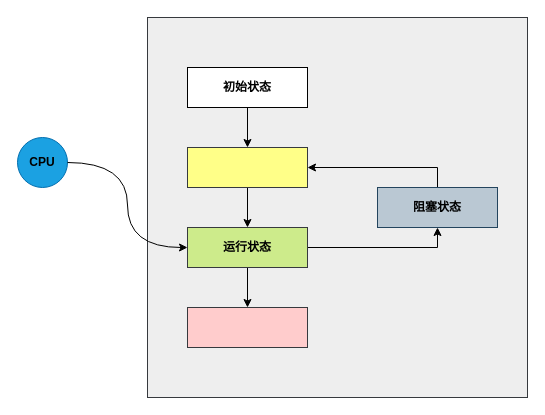
Image size: 545x415. Some labels were removed from this diagram. The centre of each missing label's shape, as x and y in pixels:
就绪状态: [247,167]
终止状态: [247,327]
